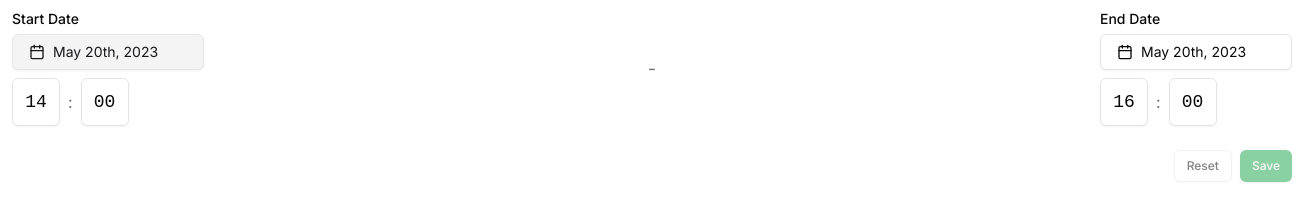
Test case: ShowDateForm › resets to initial values
Replace the text in the field with test id "start-hours" with "15" at point(36, 102), box [12, 78, 60, 126]
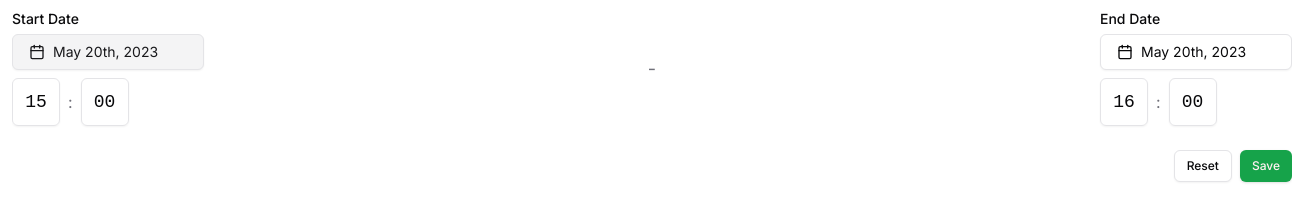
Replace the text in the field with test id "start-minutes" with "30" at point(105, 102), box [81, 78, 129, 126]
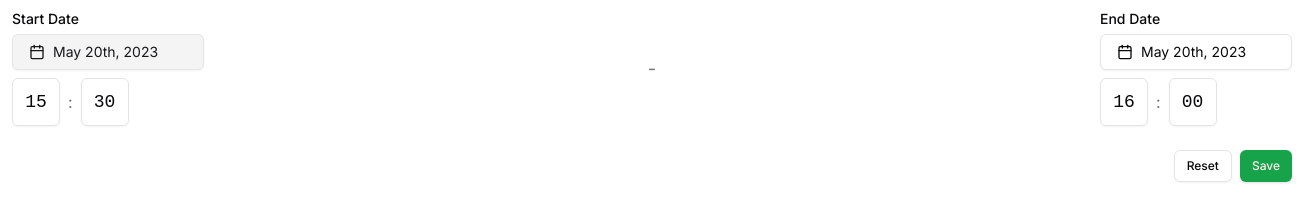
Replace the text in the field with test id "end-hours" with "18" at point(1124, 102), box [1100, 78, 1148, 126]
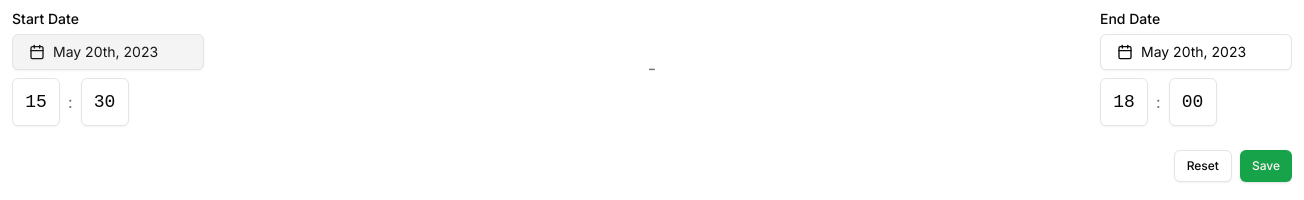
Replace the text in the field with test id "end-minutes" with "45" at point(1193, 102), box [1169, 78, 1217, 126]
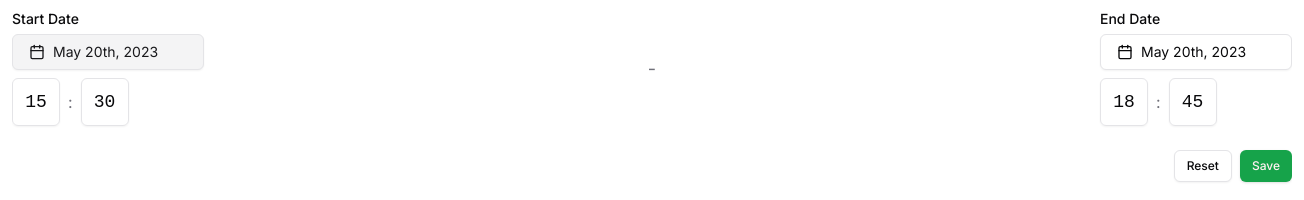
Click the button "Reset" at point(1203, 166), box [1174, 150, 1232, 182]
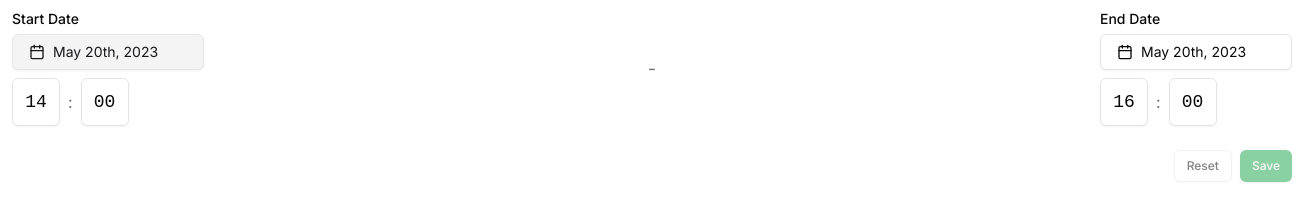
Now the field with test id "start-hours" holds "14", box [12, 78, 60, 126]
Now the field with test id "start-minutes" holds "00", box [81, 78, 129, 126]
Now the field with test id "end-hours" holds "16", box [1100, 78, 1148, 126]
